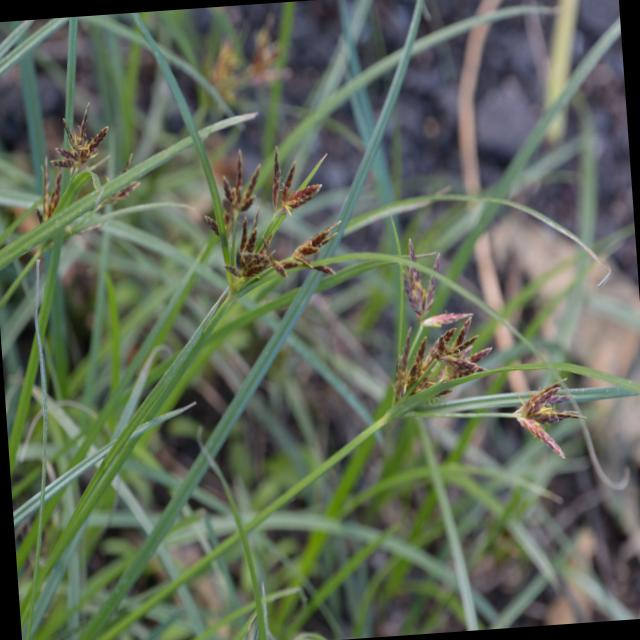cyperus: (185, 132, 355, 328), (382, 220, 501, 418), (22, 101, 150, 255), (506, 362, 590, 474)
